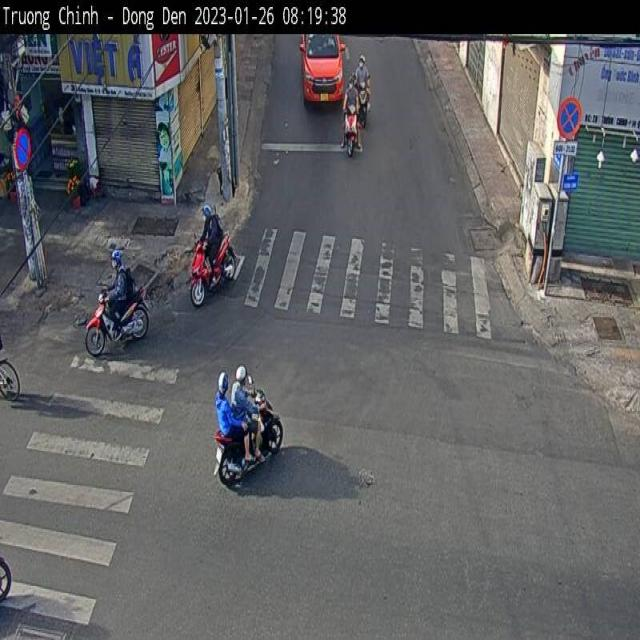with_helmet: (107, 241, 129, 290), (200, 190, 227, 226), (232, 349, 254, 389), (217, 360, 236, 403)
